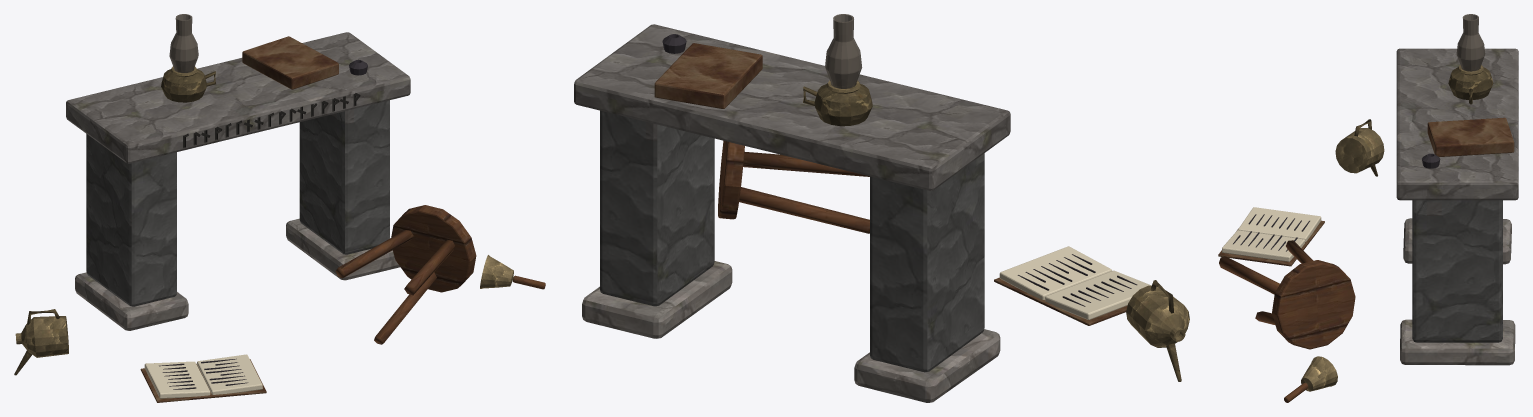
File: rs_keeper_last_watch.glb
3 views of the same model, side by side, from view 1: azimuth 30°, elevation 25°; view 2: azimuth 150°, elevation 25°; view 3: azimuth 270°, elevation 25° (orthographic). The views are drawn at different scales.
Visible parts, largest first — view 1: model; view 2: model; view 3: model.
Part boxes in pixels (left/top/right/bottom): model: left=14, top=14, right=545, bottom=402; model: left=574, top=14, right=1189, bottom=402; model: left=1218, top=14, right=1518, bottom=402.
Bounding box in the file's own units: 2.05 × 1.09 × 1.13.
14 materials, 9 textured.
